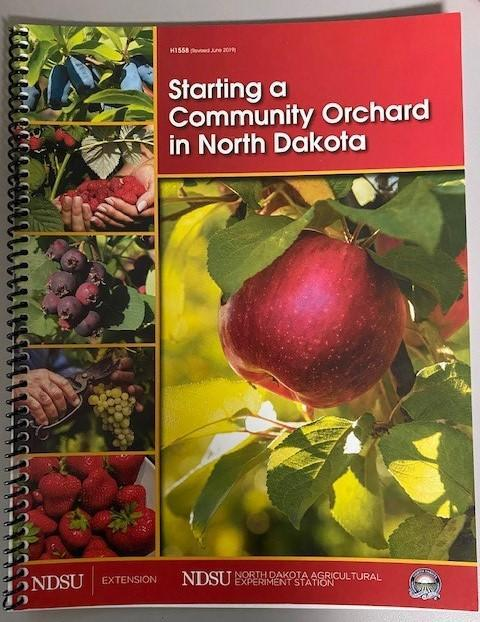apple: (220, 235, 405, 403)
